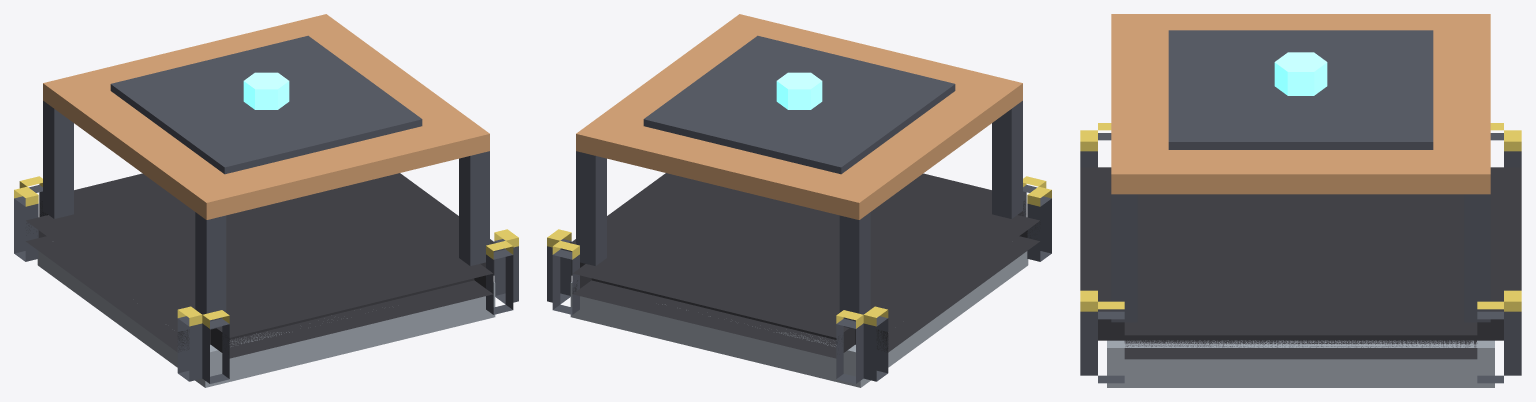
File: juncao.glb
The picture shows the model from 3 angles, left to right: view 1: azimuth 30°, elevation 25°; view 2: azimuth 150°, elevation 25°; view 3: azimuth 270°, elevation 25°; orthographic projection. The views are drawn at different scales.
Parts seen in each view (by area): view 1: juncao; view 2: juncao; view 3: juncao.
Part boxes in pixels (x1,y1,x2,y2): juncao: [14, 14, 518, 387]; juncao: [547, 14, 1051, 387]; juncao: [1080, 14, 1521, 387].
Size of the model in its own units: 1 by 0.61 by 1.
